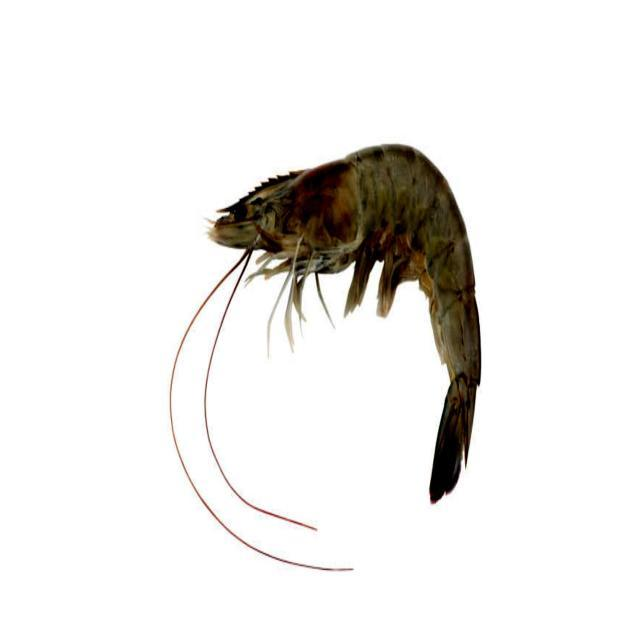shrimp: (210, 146, 481, 500)
